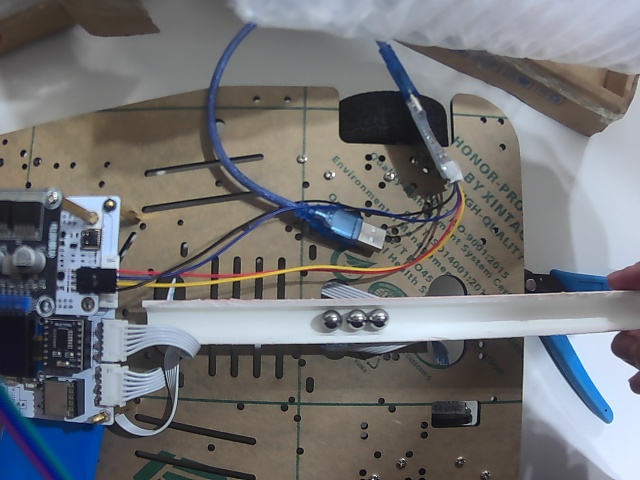steelball: (322, 310, 342, 330), (346, 310, 367, 329), (369, 309, 388, 328)
